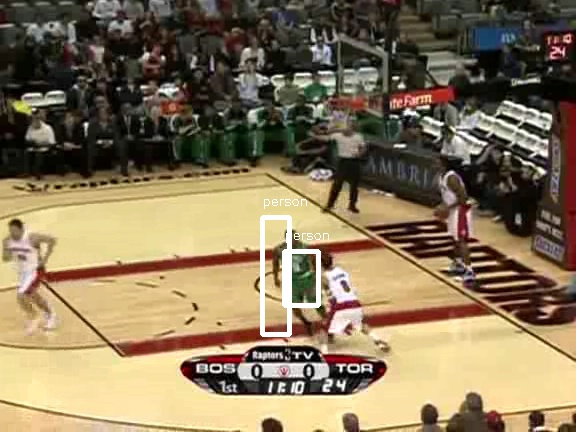person: (282, 234, 316, 315), (281, 234, 315, 315), (283, 234, 317, 315), (282, 233, 316, 314), (282, 235, 316, 316)
target_negative: (401, 267, 549, 412), (3, 11, 36, 402), (303, 330, 576, 346), (328, 402, 369, 431), (79, 419, 463, 421), (430, 266, 446, 311)
